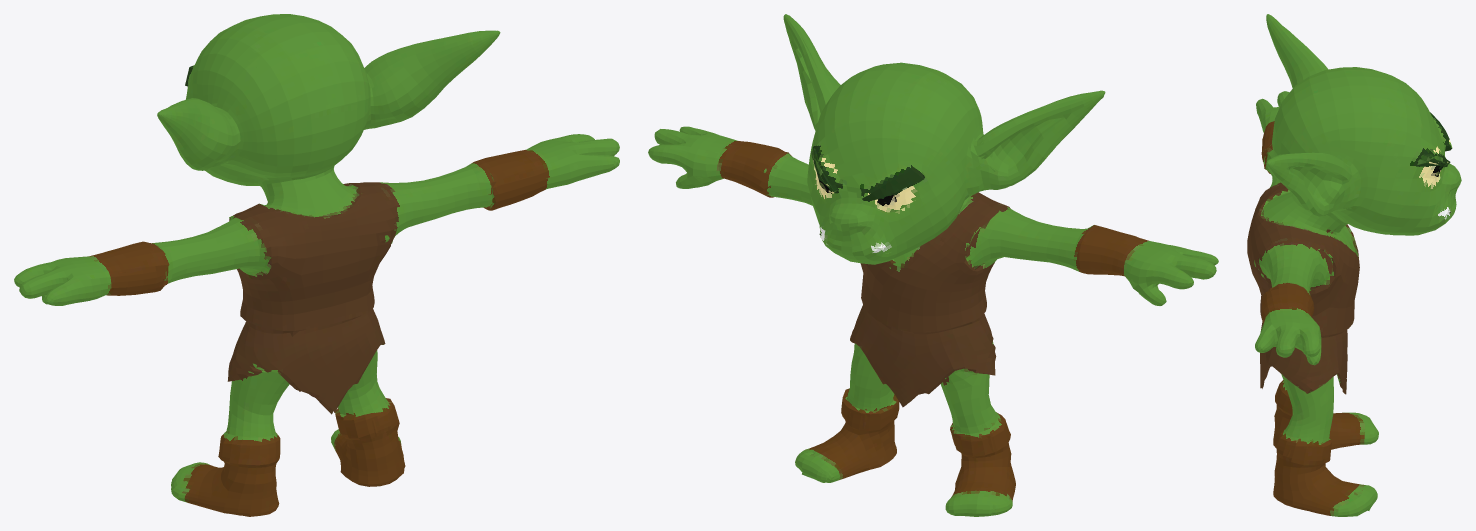
File: Variant_A_VisibleRetry_QuadRetro.glb
3 views of the same model, side by side, from view 1: azimuth 30°, elevation 25°; view 2: azimuth 150°, elevation 25°; view 3: azimuth 270°, elevation 25° (orthographic). The views are drawn at different scales.
Parts seen in each view (by area): view 1: Variant_A_VisibleRetry_QuadRemesh; view 2: Variant_A_VisibleRetry_QuadRemesh; view 3: Variant_A_VisibleRetry_QuadRemesh.
Boxes of the visible parts, x1,y1,x2,y2 form: Variant_A_VisibleRetry_QuadRemesh: (14,14,619,516); Variant_A_VisibleRetry_QuadRemesh: (648,14,1218,516); Variant_A_VisibleRetry_QuadRemesh: (1247,14,1461,516).
Size of the model in its own units: 2.8 by 2 by 0.9818.
1 material, 1 textured.
